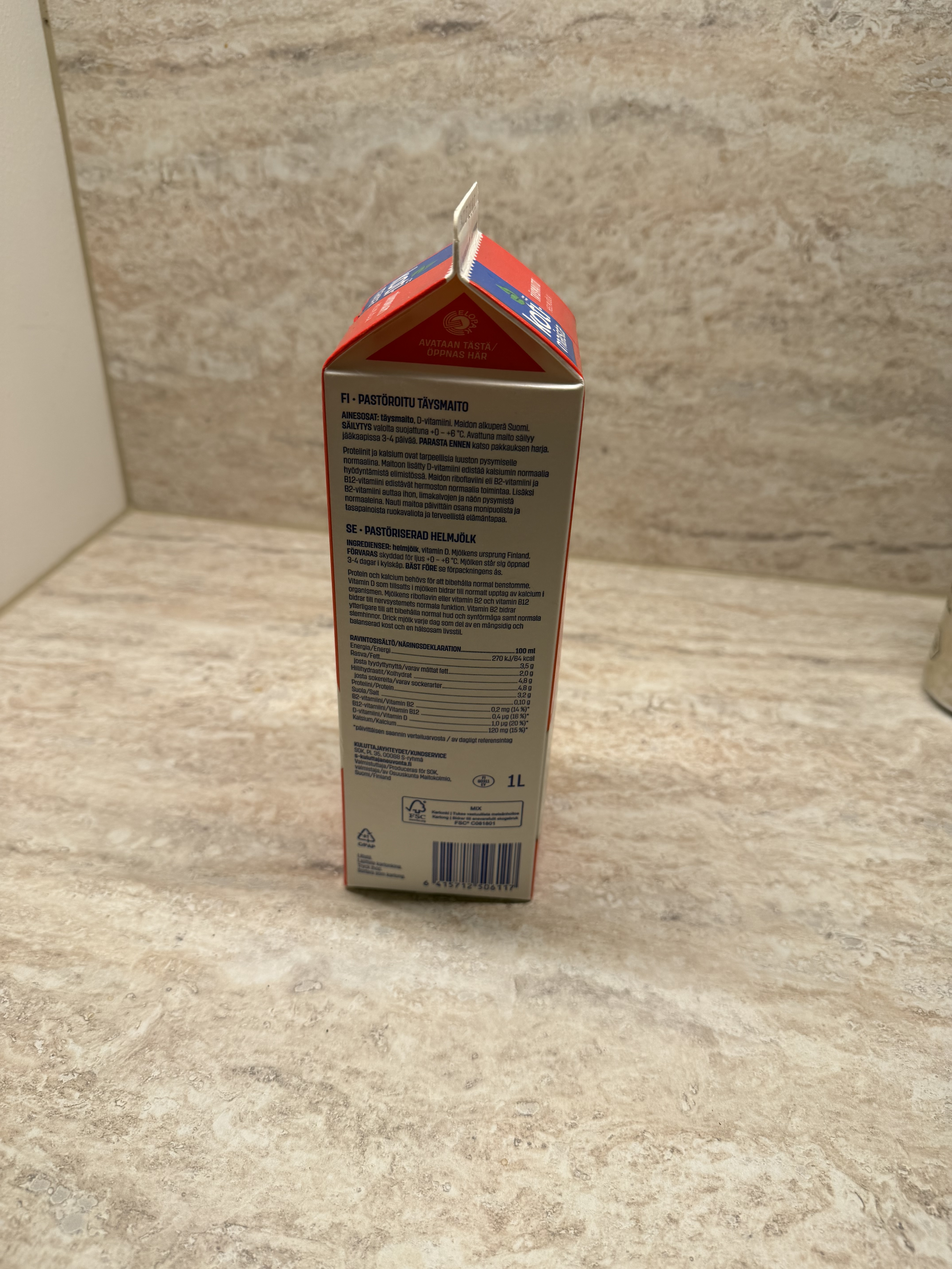Dryckeskartong: (308, 188, 609, 923)
